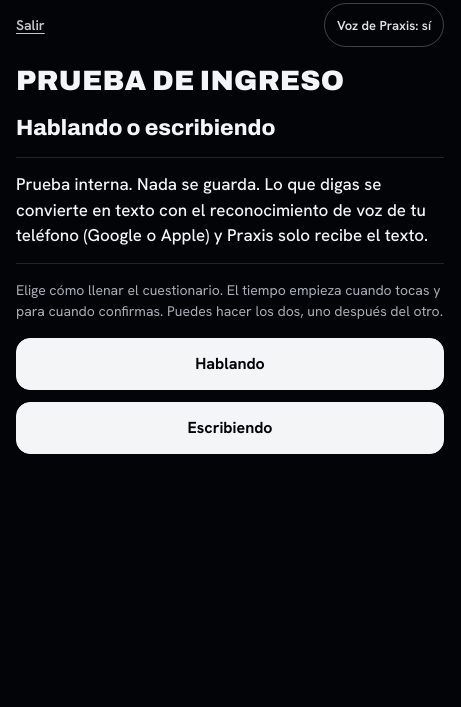
Test: el resultado y «Copiar resultado» › si el portapapeles no deja copiar, enseña el texto para copiarlo a mano
The width and height of the screenshot is (461, 707).
Step 1. Click the button "Escribiendo" → point(230, 428), box x1=16 y1=402 x2=444 y2=454
(page scrolled)
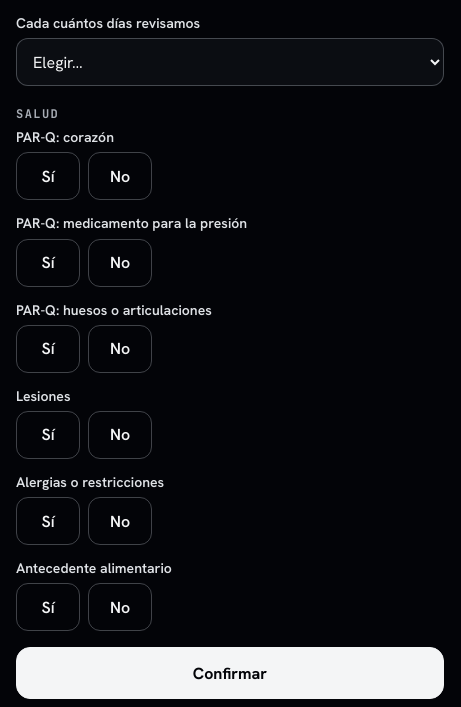
Step 2. Click the button "Confirmar" → point(230, 673), box x1=16 y1=647 x2=444 y2=699
(page scrolled)
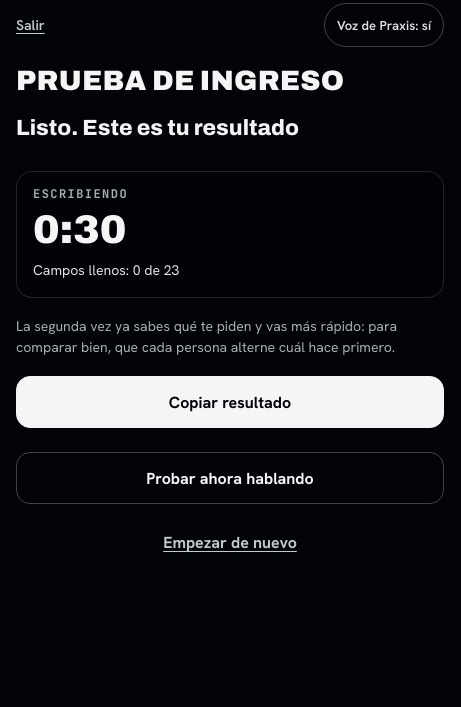
Now the element named "Resultado escribiendo" is shown, box x1=16 y1=171 x2=444 y2=298
Step 3. Click the button "Copiar resultado" → point(230, 402), box x1=16 y1=376 x2=444 y2=428
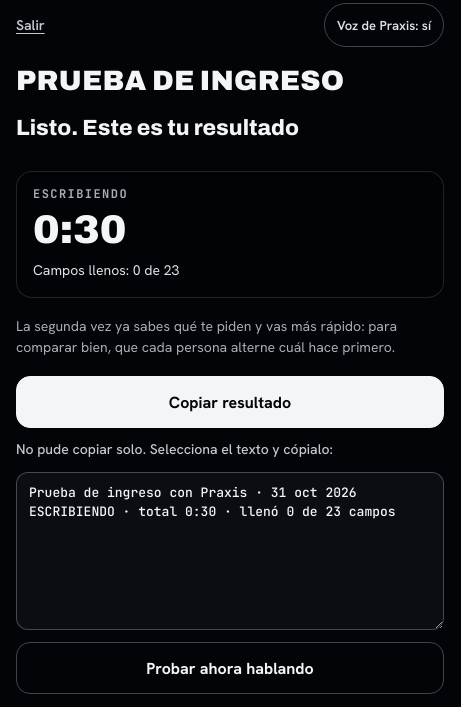
Now the text "No pude copiar solo. Selecciona el texto y cópialo:" is shown, box x1=16 y1=440 x2=333 y2=458
